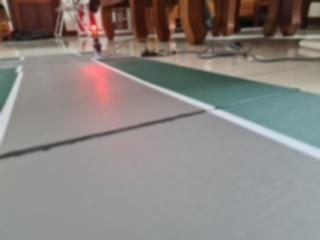red: (87, 19, 105, 46)
